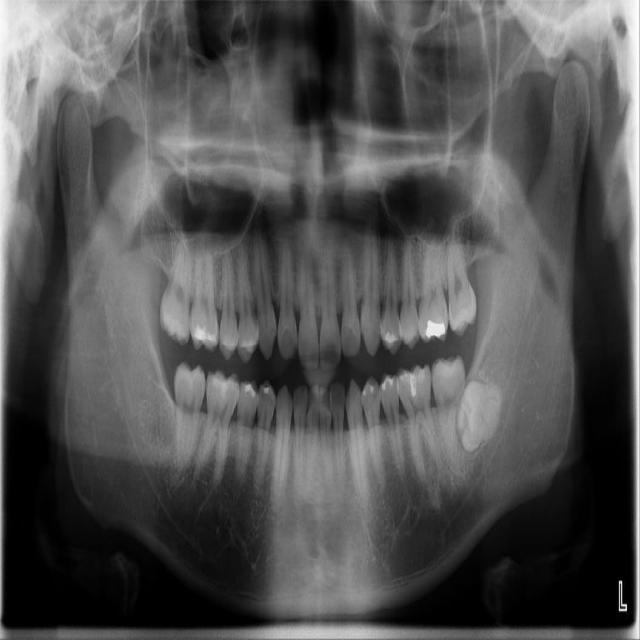52: (186, 298, 222, 355), (203, 367, 242, 416), (417, 294, 449, 344), (397, 364, 431, 406), (379, 312, 403, 356), (360, 375, 382, 413), (257, 380, 277, 413), (379, 373, 399, 405), (237, 380, 259, 408), (454, 391, 464, 444)
73: (600, 594, 608, 606)
BioHorizons Implant: (446, 219, 478, 338)
Caries: (157, 241, 198, 347)
Implant: (431, 354, 466, 473), (174, 361, 206, 471)
Keystone Dental Implant: (452, 379, 507, 457)
